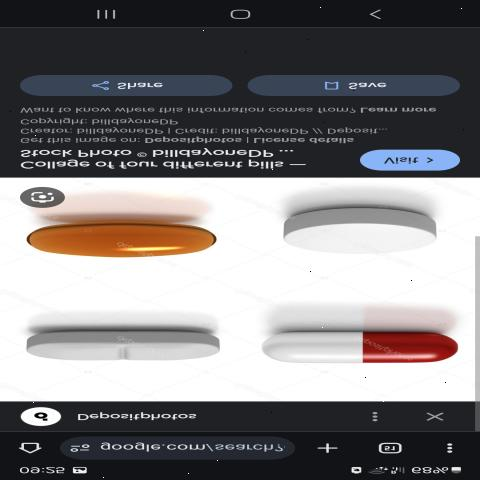Pill: (9, 307, 236, 382), (257, 314, 456, 374), (276, 202, 452, 258)
